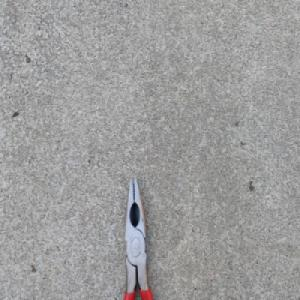Pliers: (122, 175, 155, 300)
